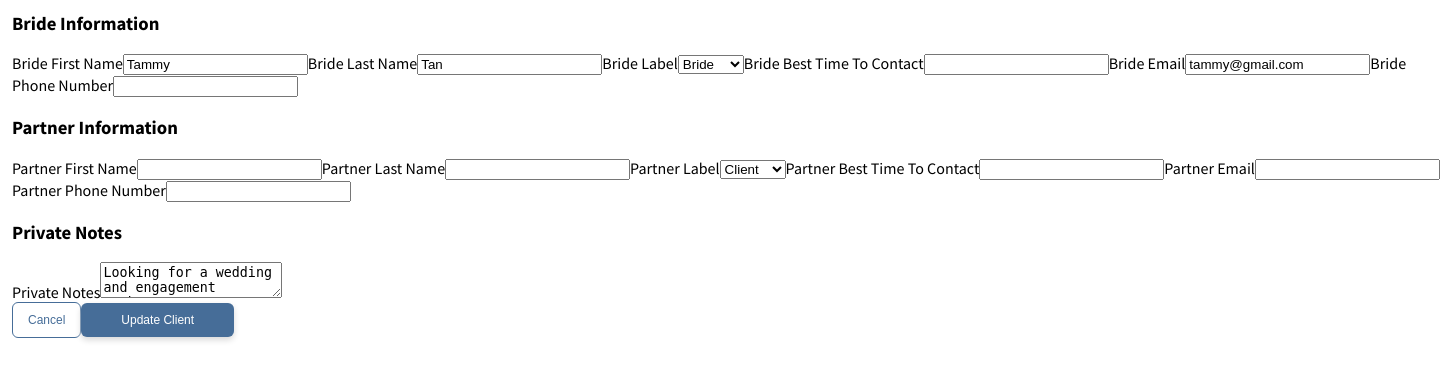
Test case: Update Client Form › first name is required
The image size is (1452, 379).
Clear the field labelled "Bride First Name" at (215, 65), box [123,54,308,75]
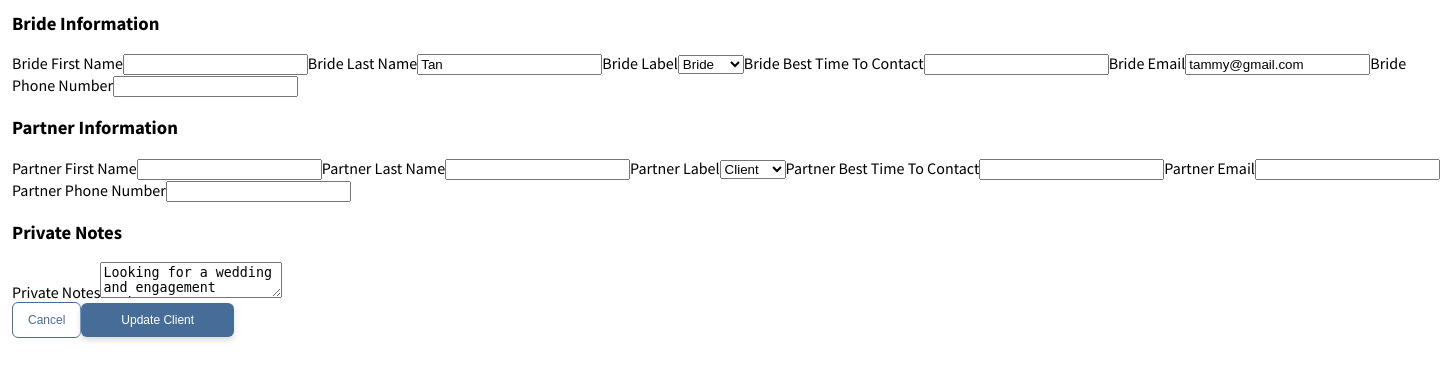
Leave the field labelled "Bride First Name", box [123,54,308,75]
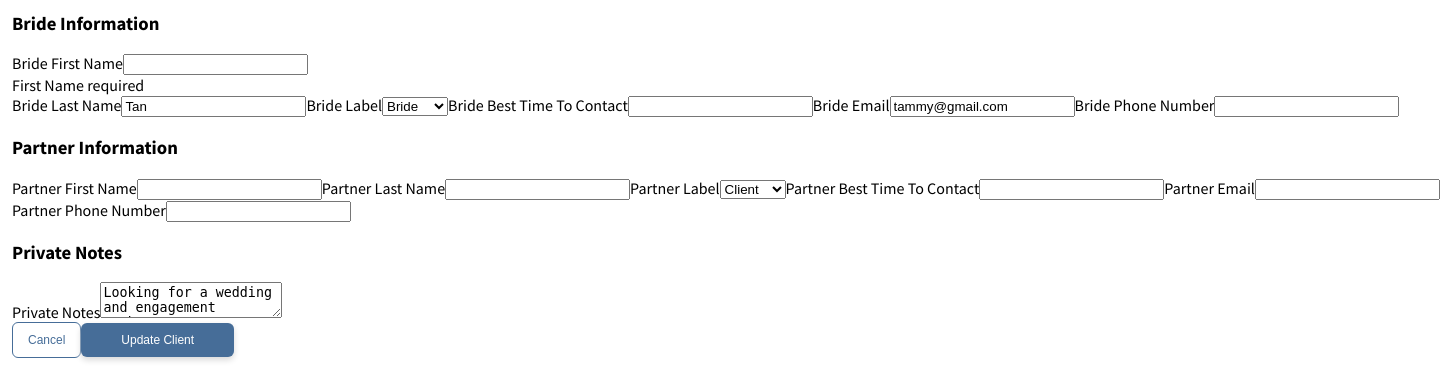
Expected: the text "First Name required" is shown, [12,75,144,95]
